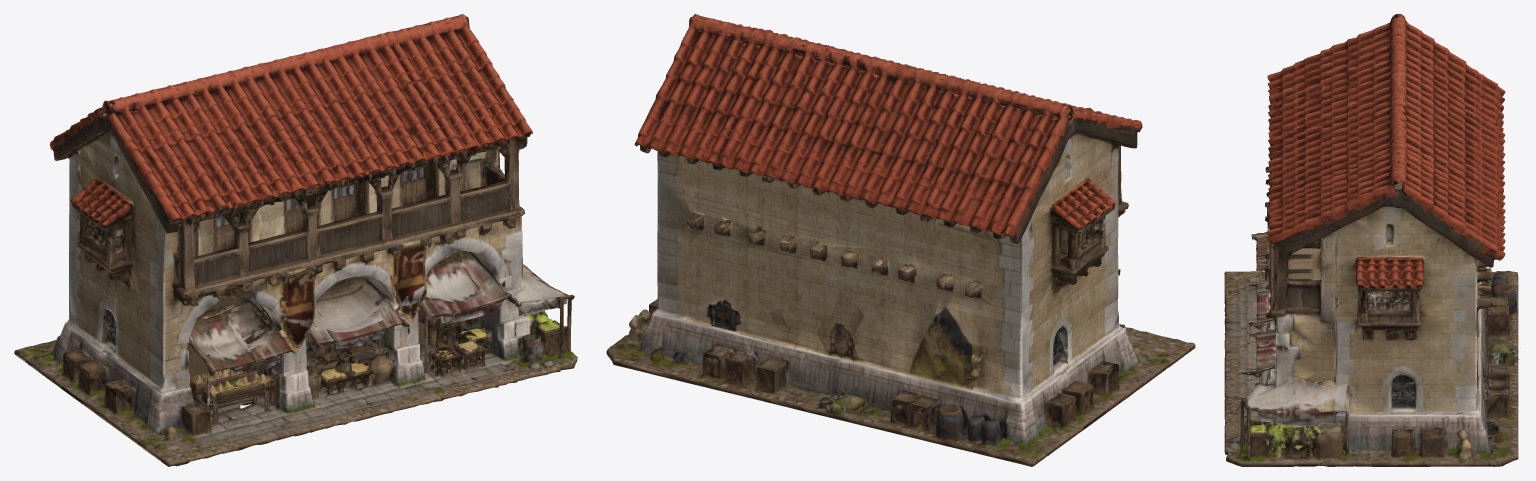
The model's file is SM_LonjaOMercadoUrbano.fbx.
The picture shows the model from 3 angles, left to right: view 1: azimuth 30°, elevation 25°; view 2: azimuth 150°, elevation 25°; view 3: azimuth 270°, elevation 25°; orthographic projection. The views are drawn at different scales.
Visible parts, largest first — view 1: SM_LonjaOMercadoUrbano; view 2: SM_LonjaOMercadoUrbano; view 3: SM_LonjaOMercadoUrbano.
Part boxes in pixels (x1,y1,x2,y2): SM_LonjaOMercadoUrbano: (14, 14, 577, 466); SM_LonjaOMercadoUrbano: (606, 14, 1195, 466); SM_LonjaOMercadoUrbano: (1224, 14, 1518, 466).
Bounding box in the file's own units: 99.96 × 67.2 × 65.41.
Materials: 1 (1 with a texture image).
